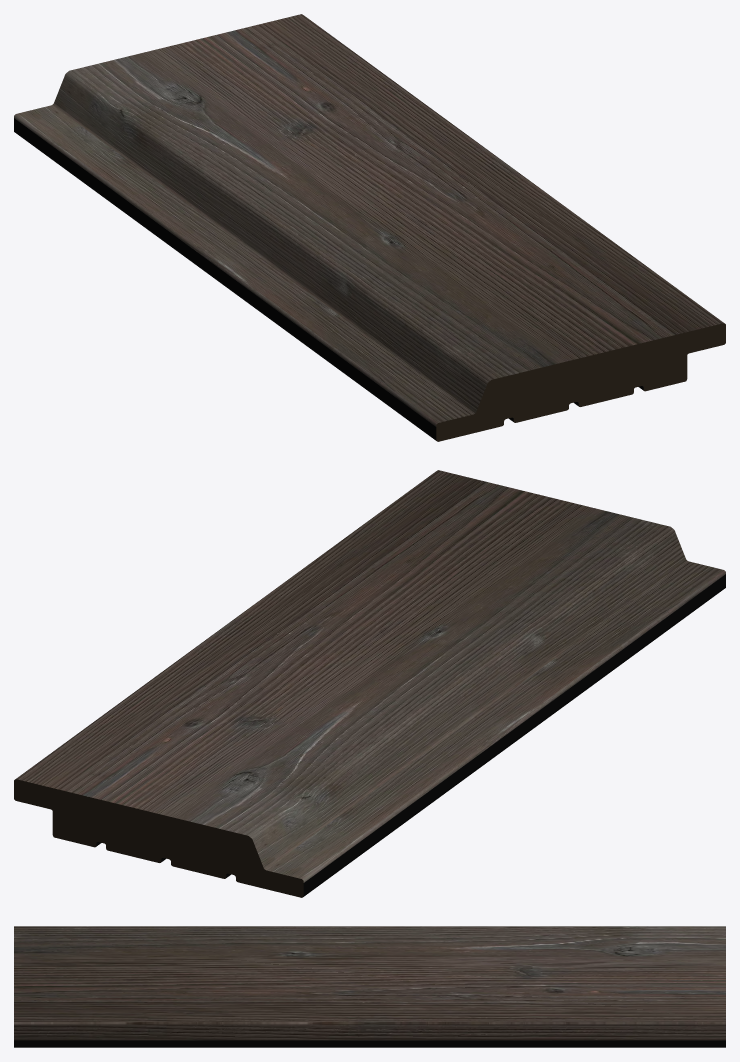
The model's file is spruce-facade-half-tongue-dark-brown.glb.
The picture shows the model from 3 angles, top to bottom: view 1: azimuth 30°, elevation 25°; view 2: azimuth 150°, elevation 25°; view 3: azimuth 270°, elevation 25°; orthographic projection. The views are drawn at different scales.
Parts seen in each view (by area): view 1: Pusė_Špunto; view 2: Pusė_Špunto; view 3: Pusė_Špunto.
Part boxes in pixels (x1=…): Pusė_Špunto: x1=14, y1=14, x2=725, y2=441; Pusė_Špunto: x1=14, y1=470, x2=725, y2=897; Pusė_Špunto: x1=14, y1=926, x2=725, y2=1047.
Size of the model in its own units: 0.0723 by 0.0117 by 0.1826.
3 materials, 1 textured.
